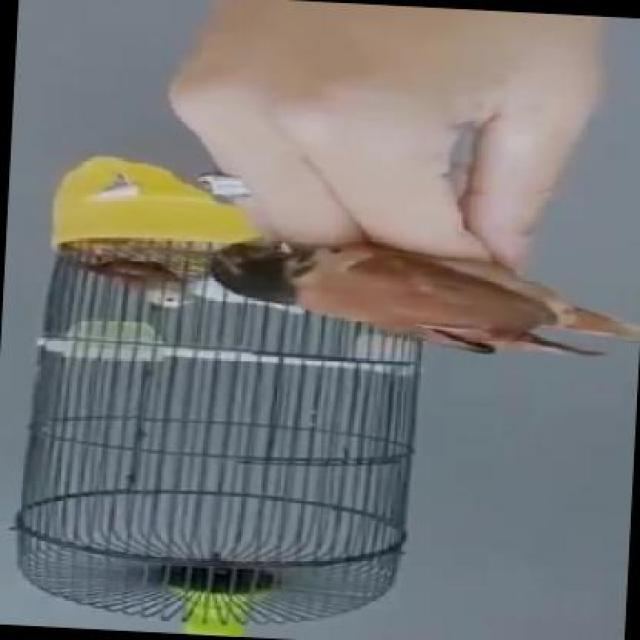Bird: (183, 208, 640, 420), (55, 234, 176, 328)
